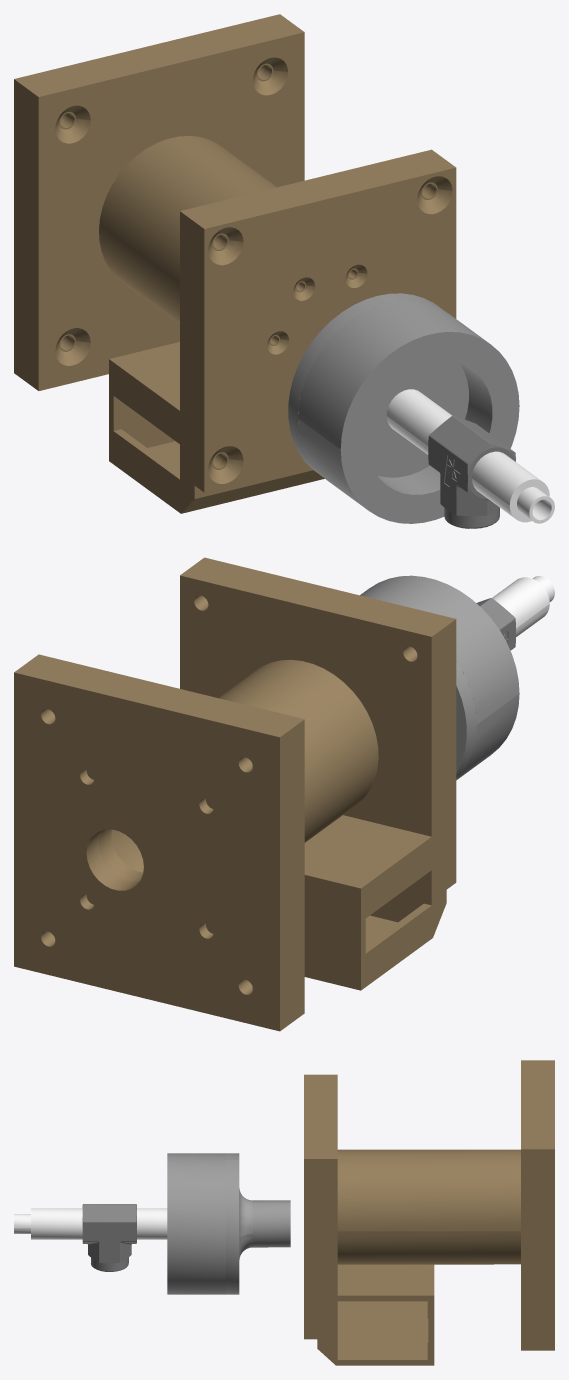
The model's file is Assembly.gltf.
3 renders of one model, top to bottom at view 1: azimuth 30°, elevation 25°; view 2: azimuth 150°, elevation 25°; view 3: azimuth 270°, elevation 25°, orthographic. The views are drawn at different scales.
Visible parts, largest first — view 1: SOLID, Cap, SOLID_node, Connector, 16T68-02-02 v1, nodes[9], Cap (1), nodes[8]; view 2: Connector, SOLID, SOLID_node, Cap, nodes[9], Cap (1), 16T68-02-02 v1; view 3: SOLID, SOLID_node, Connector, Cap (1), Cap, 16T68-02-02 v1, nodes[9], nodes[8].
Boxes of the visible parts, x1=… form: SOLID: x1=26, y1=23, x2=446, y2=513; Cap: x1=194, y1=160, x2=456, y2=492; SOLID_node: x1=298, y1=300, x2=519, y2=523; Connector: x1=14, y1=14, x2=291, y2=381; 16T68-02-02 v1: x1=428, y1=415, x2=515, y2=528; nodes[9]: x1=472, y1=451, x2=554, y2=523; Cap (1): x1=288, y1=293, x2=443, y2=476; nodes[8]: x1=386, y1=389, x2=452, y2=454; Connector: x1=14, y1=663, x2=292, y2=1031; SOLID: x1=26, y1=564, x2=446, y2=1021; SOLID_node: x1=360, y1=575, x2=519, y2=780; Cap: x1=195, y1=557, x2=456, y2=889; nodes[9]: x1=492, y1=576, x2=554, y2=636; Cap (1): x1=456, y1=661, x2=476, y2=778; 16T68-02-02 v1: x1=476, y1=598, x2=515, y2=650; SOLID: x1=317, y1=1060, x2=537, y2=1365; SOLID_node: x1=167, y1=1153, x2=225, y2=1294; Connector: x1=538, y1=1060, x2=554, y2=1350; Cap (1): x1=226, y1=1153, x2=290, y2=1294; Cap: x1=304, y1=1074, x2=317, y2=1339; 16T68-02-02 v1: x1=82, y1=1204, x2=136, y2=1271; nodes[9]: x1=14, y1=1208, x2=82, y2=1239; nodes[8]: x1=137, y1=1208, x2=167, y2=1239.
Bounding box in the file's own units: 0.1577 × 0.181 × 0.4057.
